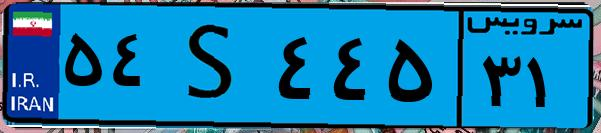1: (525, 38, 570, 115)
3: (475, 38, 525, 113)
4: (270, 28, 330, 110), (330, 28, 385, 110), (110, 28, 158, 98)
5: (385, 28, 445, 110), (57, 26, 110, 100)
S: (158, 12, 270, 120)
